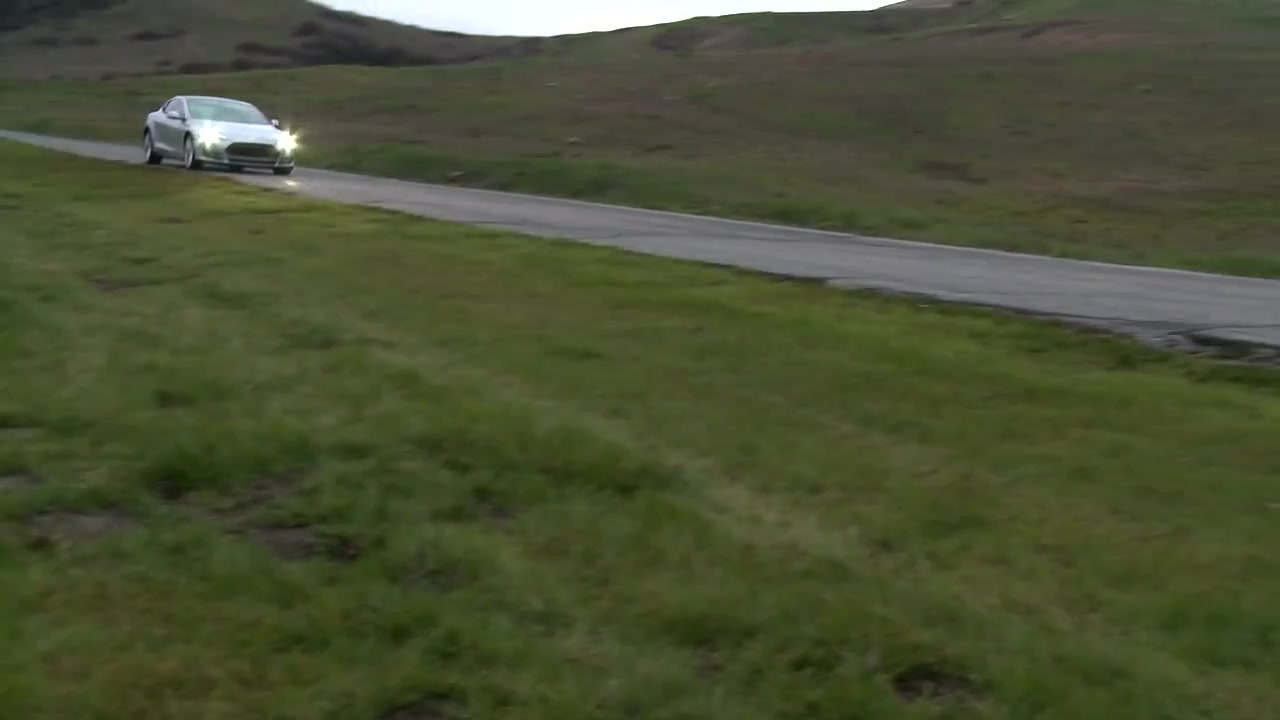car: (144, 95, 299, 176)
